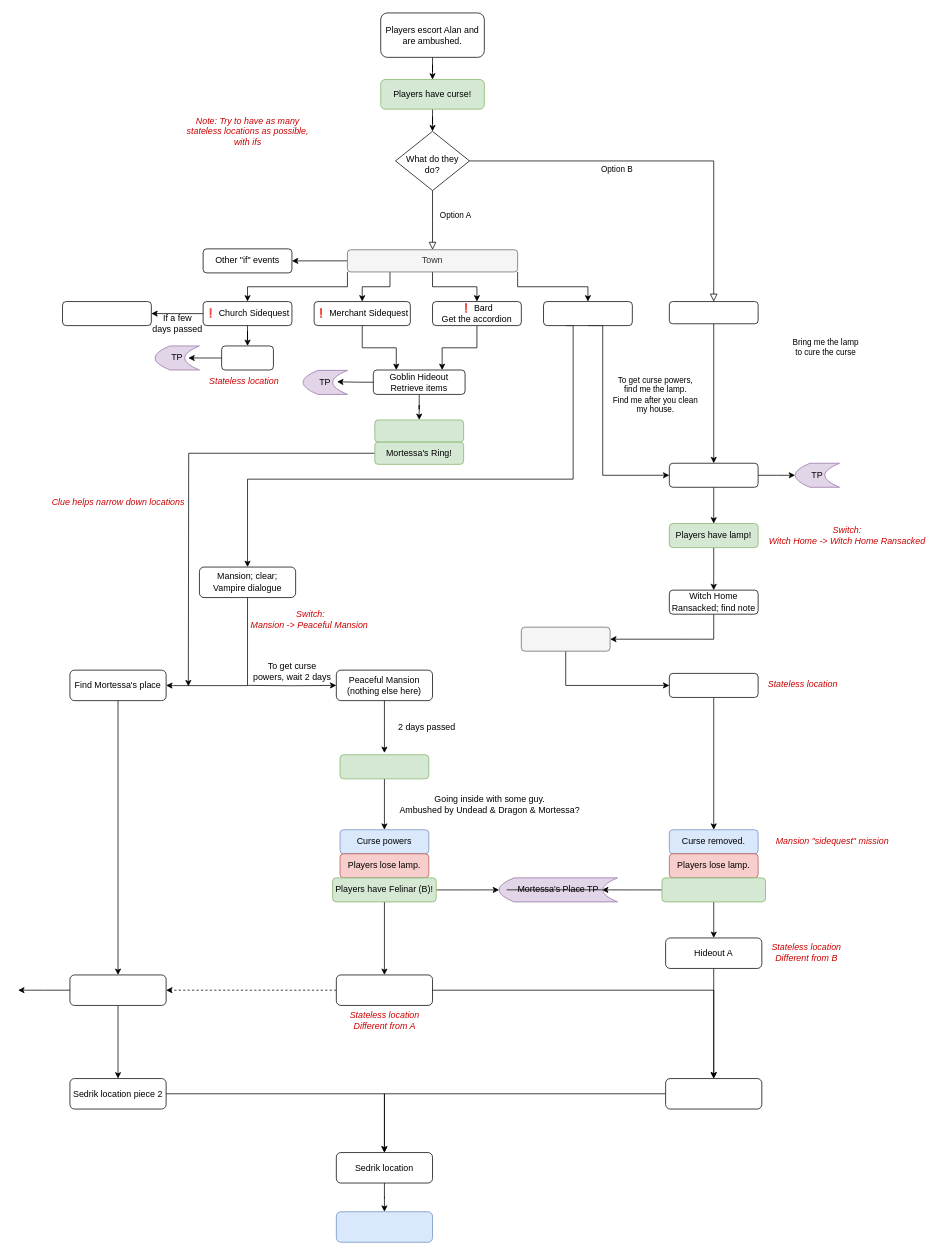
The diagram is 949 pixels wide and 1256 high, and some of its shapes have lost their labels. The centre of each missing label's shape, as x and y in pixels:
"Bard Favor!" belongs at (x=419, y=430).
"Church Event" belongs at (x=106, y=313).
"Cult Hideout B" belongs at (x=384, y=989).
"Dead Priest" belongs at (x=247, y=357).
"Detour to Town" belongs at (x=565, y=638).
"Graveyard" belongs at (x=713, y=474).
"Players have Felinar (A)!" belongs at (x=713, y=889).
"Players have lamp?" belongs at (x=384, y=766).
"Raid Mortessa!" belongs at (x=117, y=989).
"Sedrik location piece 1" belongs at (x=713, y=1093).
"The End" belongs at (x=384, y=1226).
"Witch" belongs at (x=713, y=312).
"Witch house; Ritual" belongs at (x=713, y=685).
"❗ Mansion (mention + sidequest)" belongs at (x=587, y=313).
